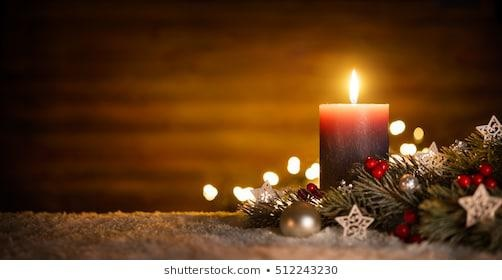fire: (345, 65, 362, 103)
